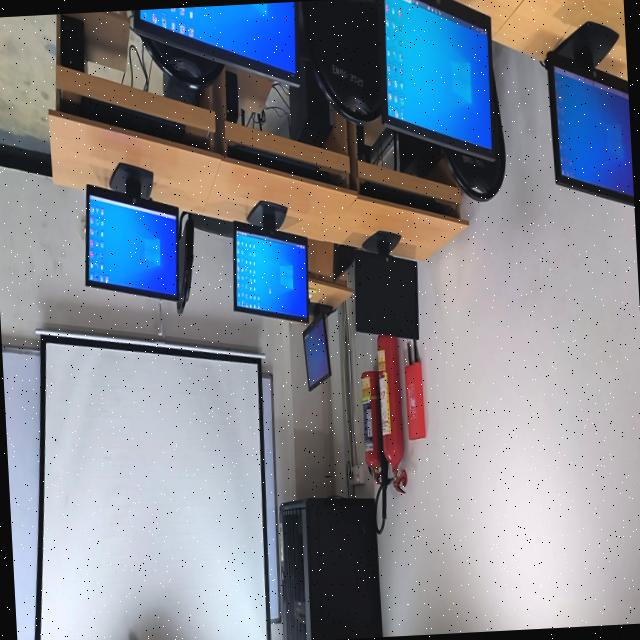Chair: (301, 0, 379, 124), (441, 97, 504, 201), (140, 35, 223, 88)
Cpu: (288, 57, 331, 145), (162, 72, 202, 104)
Fire Extinguisher: (377, 335, 405, 492), (360, 370, 380, 484)
Monitor: (375, 0, 501, 179), (543, 21, 634, 206), (131, 1, 299, 85), (85, 185, 177, 300), (232, 225, 308, 321), (353, 251, 418, 338), (301, 304, 334, 390)
